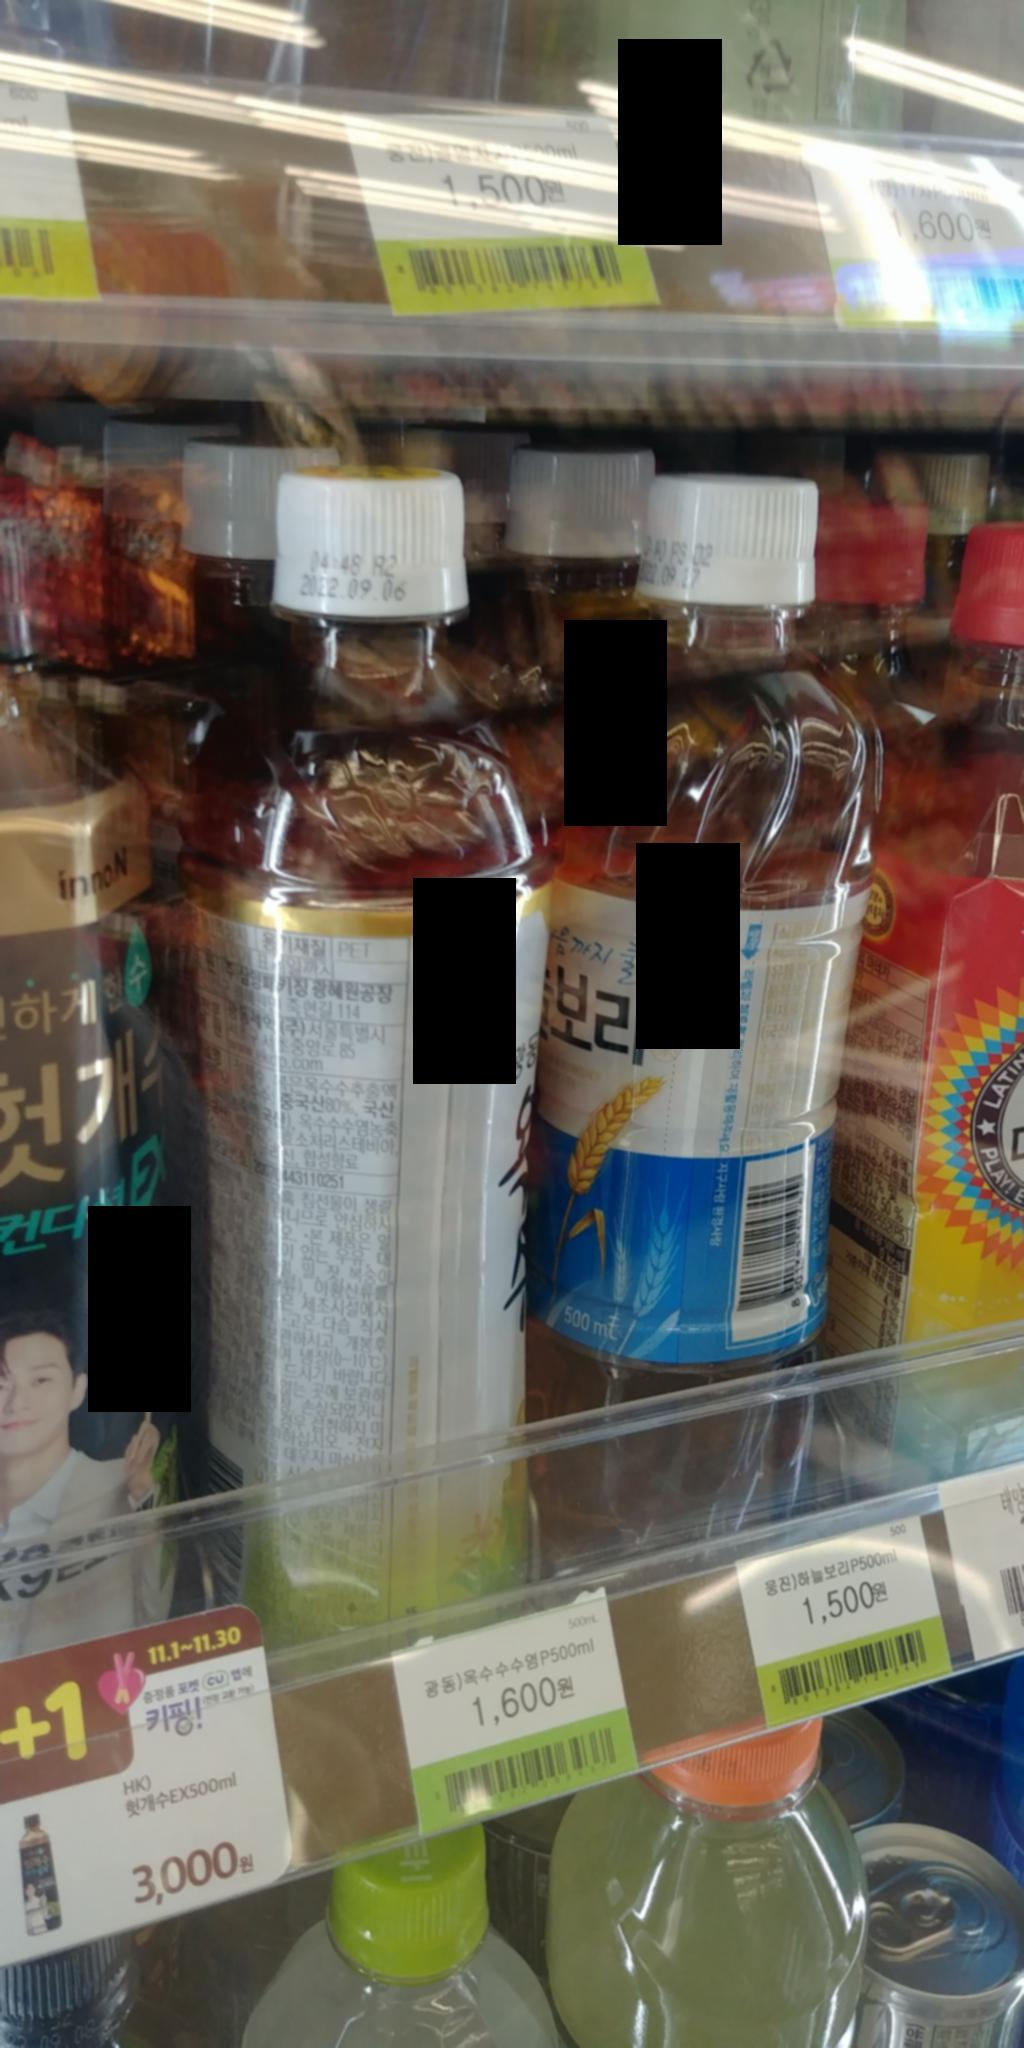haneulbori: (500, 448, 856, 1543)
oksususuyeomcha: (210, 448, 542, 1638)
